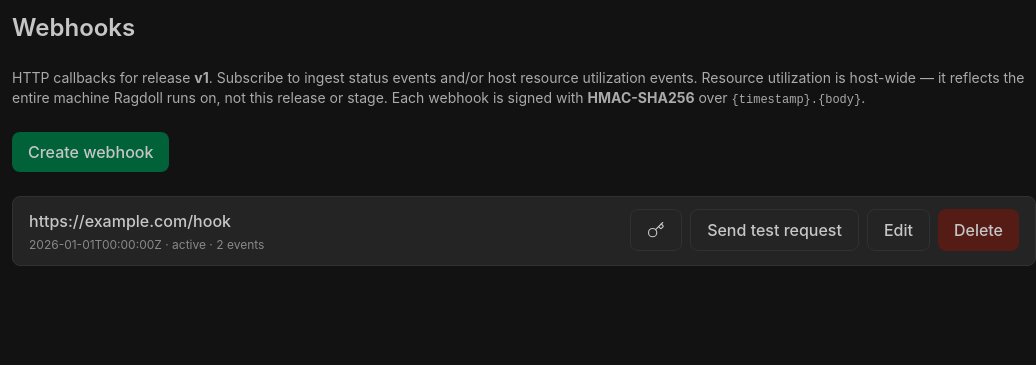
Test: WebhooksPage › shows test result after send test
Expected: the text "https://example.com/hook" is shown, [29,211,231,231]
Click the button "Send test request": [774, 230] box [690,209,859,251]
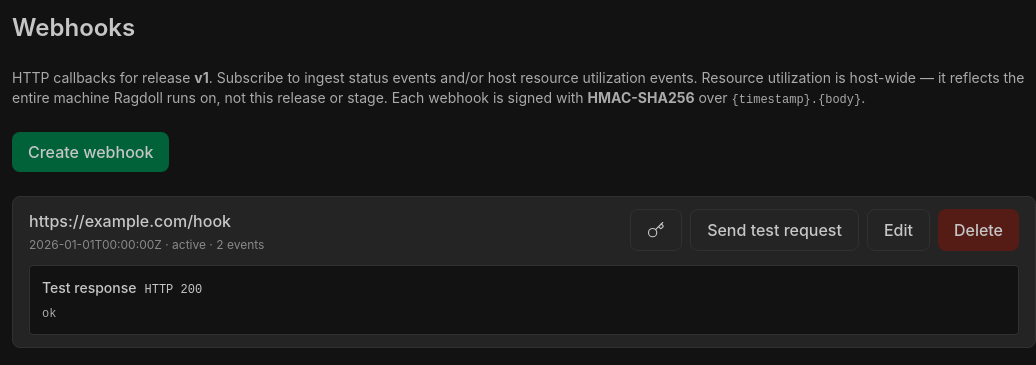
Expected: the text "HTTP 200" is shown, [144,283,202,297]
